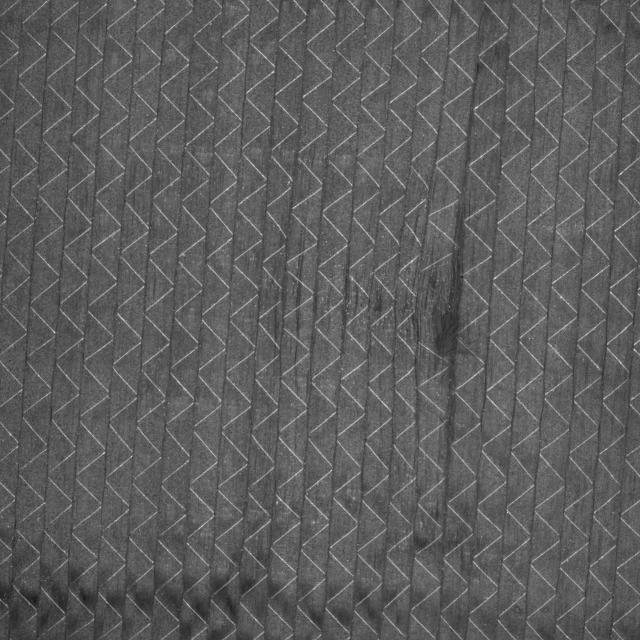carbon-fibre-defect: (384, 189, 503, 486), (281, 245, 320, 374), (255, 246, 282, 349), (327, 269, 363, 333), (365, 278, 401, 329)
